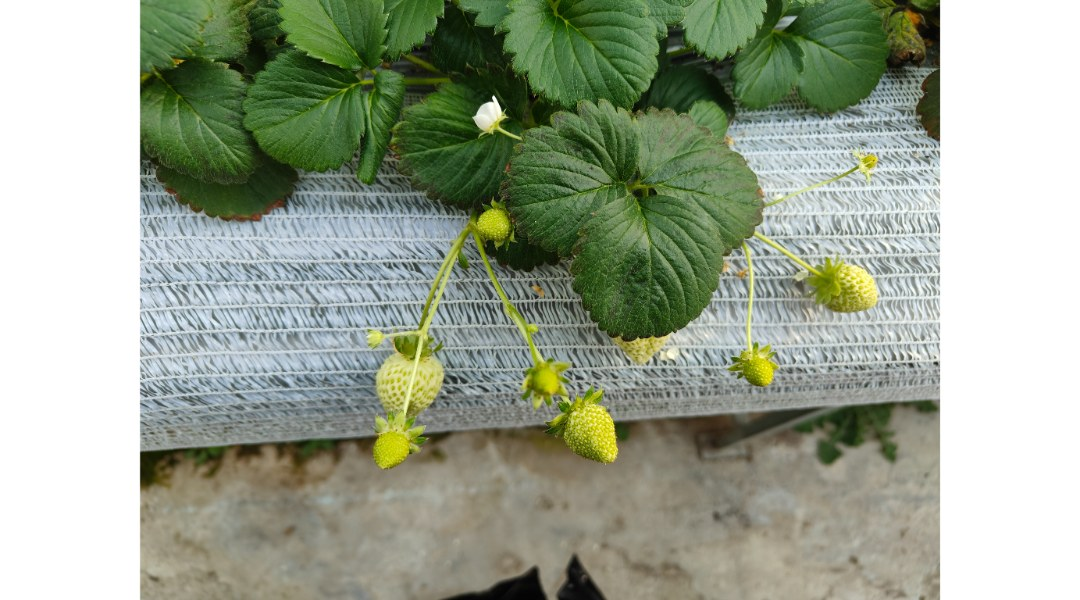berry: (368, 339, 451, 431), (557, 399, 630, 467), (796, 259, 882, 314), (368, 413, 434, 481), (600, 325, 675, 379), (519, 355, 579, 414), (725, 337, 782, 396), (468, 194, 517, 250), (852, 143, 885, 177)
strain: (482, 246, 550, 363), (763, 169, 854, 207), (390, 349, 430, 428), (759, 231, 819, 272), (737, 246, 757, 347), (385, 325, 419, 339)
